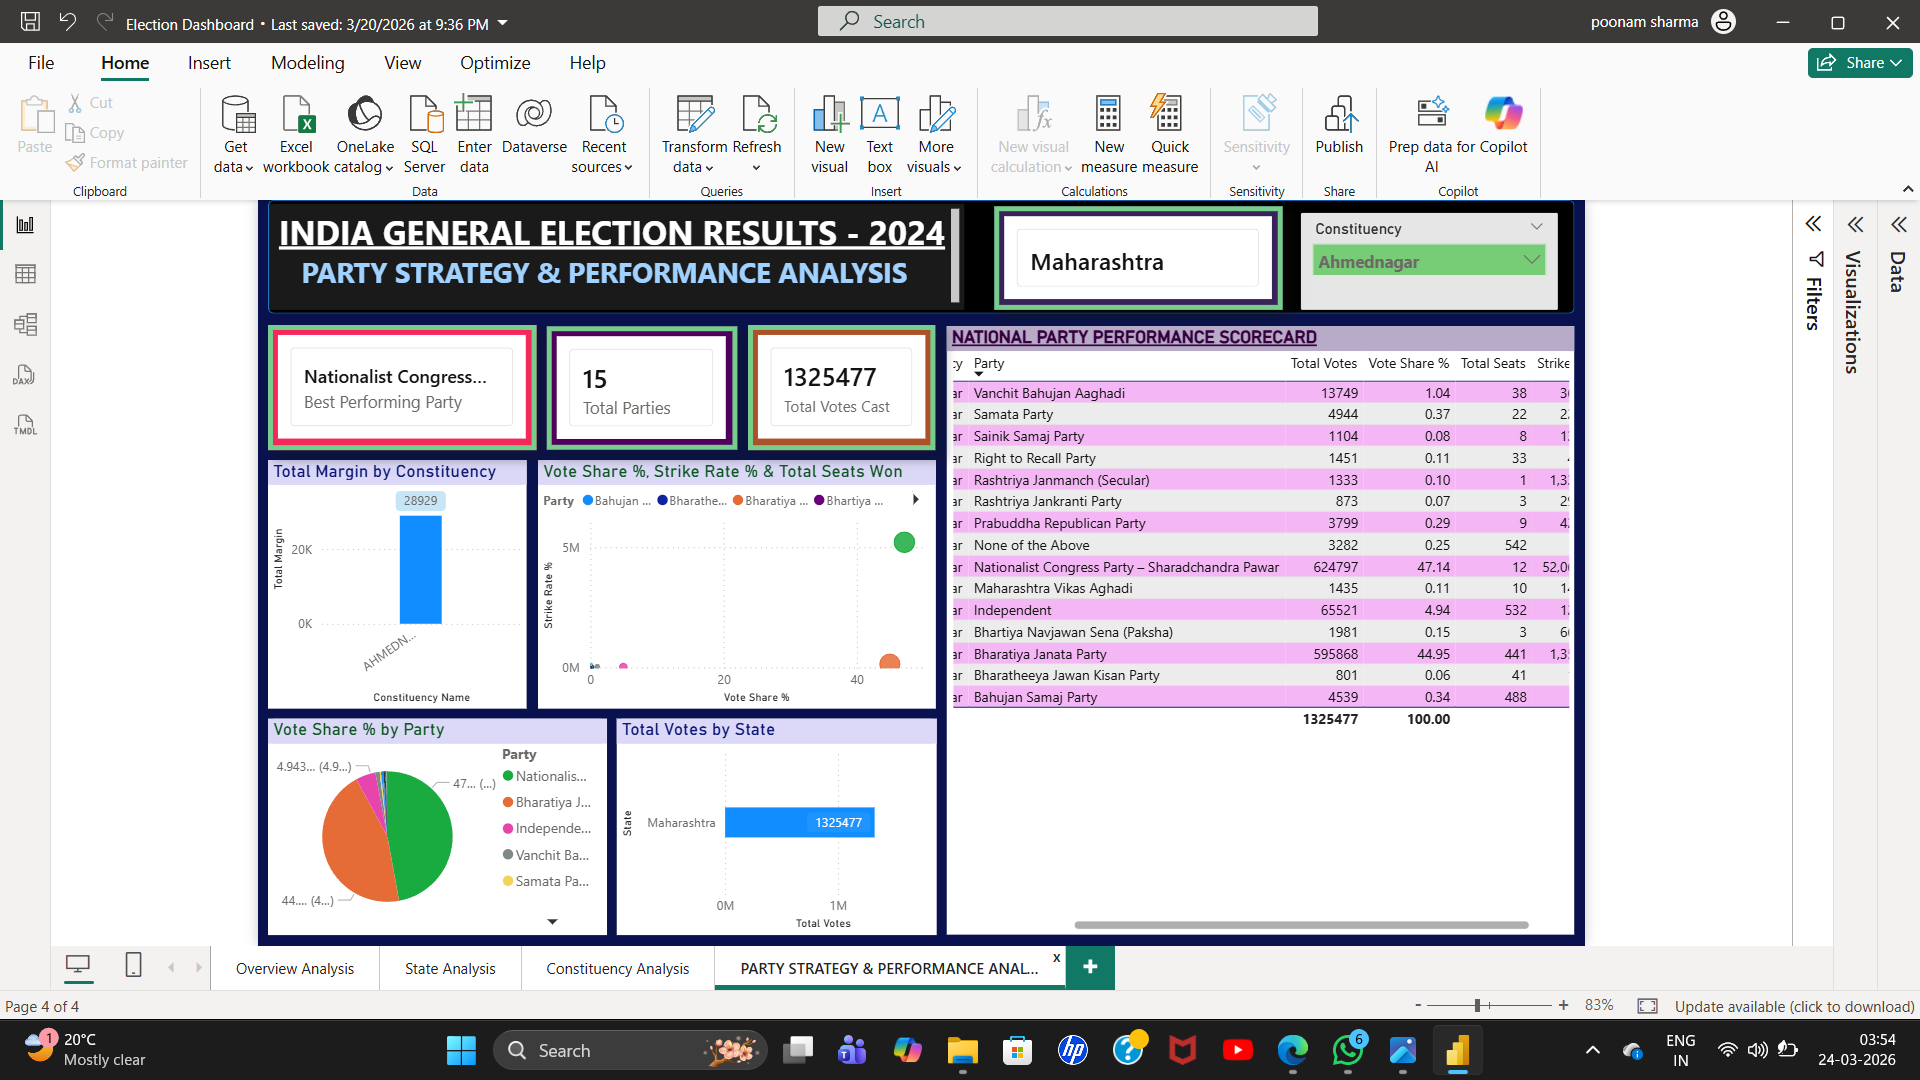

Layout of this report page (visuals, bound fields, positions):
{"tool":"powerbi","page":{"name":"PARTY STRATEGY & PERFORMANCE ANALYSIS  ","canvas":[1280,720],"ordinal":3},"visuals":[{"type":"shape","box":[9.6,0,1261.1,109.8],"z":0},{"type":"textbox","box":[9.7,3.6,672,102.5],"z":1000},{"type":"slicer","fields":{"Values":["StatewiseResults.Constituency"]},"box":[1005,10.9,250.9,96.5],"z":2000},{"type":"cardVisual","fields":{"Data":["All Measures.Selected State Name"]},"box":[710.8,5.5,278.6,100.2],"z":3000},{"type":"pieChart","fields":{"Y":["All Measures.Vote Share %"],"Category":["ConstituencyWiseDetails.Party"]},"box":[9.7,500.7,326.9,208.7],"z":4000},{"type":"tableEx","title":"NATIONAL PARTY PERFORMANCE SCORECARD","fields":{"Values":["States.State","StatewiseResults.Constituency","ConstituencyWiseDetails.Party","All Measures.Total Seats Won","All Measures.Vote Share %","All Measures.Strike Rate %","All Measures.Strike Rate %1"]},"box":[664.7,121.9,605.6,587.5],"z":5000},{"type":"clusteredBarChart","fields":{"Category":["States.State"],"Y":["All Measures.Total Votes Measure"]},"box":[346.2,500.7,308.8,208.7],"z":6000},{"type":"scatterChart","title":"Vote Share %, Strike Rate % & Total Seats Won","fields":{"Y":["All Measures.Strike Rate %"],"X":["All Measures.Vote Share %"],"Size":["All Measures.Total Seats Won"],"Series":["ConstituencyWiseDetails.Party"]},"box":[270.3,251.1,384.2,240.1],"z":7000},{"type":"clusteredColumnChart","title":"Total Margin by Constituency","fields":{"Category":["ConstituencyWiseResults.Constituency Name"],"Y":["All Measures.Total Margin"]},"box":[9.7,250.9,249.7,240.1],"z":8000},{"type":"cardVisual","fields":{"Data":["All Measures.Best Performing Party"]},"box":[9.6,120.8,259.3,120.8],"z":9000},{"type":"cardVisual","fields":{"Data":["All Measures.Total Parties"]},"box":[278.6,122.1,183.9,119.4],"z":10000},{"type":"cardVisual","fields":{"Data":["All Measures.Total Votes Cast"]},"box":[473.4,120.8,181.1,120.8],"z":11000}]}

Visuals, with their boxes on the page's 1280x720 design canvas (x1, y1, x2, y2). These are canvas units, not pixel positions in the 1920x1080 screenshot, which may show the page scaled, cropped or inside an application window:
shape: [10,0,1271,110]
textbox: [10,4,682,106]
slicer - StatewiseResults.Constituency: [1005,11,1256,107]
cardVisual - All Measures.Selected State Name: [711,6,989,106]
pieChart - All Measures.Vote Share % x ConstituencyWiseDetails.Party: [10,501,337,709]
"NATIONAL PARTY PERFORMANCE SCORECARD" tableEx: [665,122,1270,709]
clusteredBarChart - States.State x All Measures.Total Votes Measure: [346,501,655,709]
"Vote Share %, Strike Rate % & Total Seats Won" scatterChart: [270,251,654,491]
"Total Margin by Constituency" clusteredColumnChart: [10,251,259,491]
cardVisual - All Measures.Best Performing Party: [10,121,269,242]
cardVisual - All Measures.Total Parties: [279,122,462,242]
cardVisual - All Measures.Total Votes Cast: [473,121,654,242]
